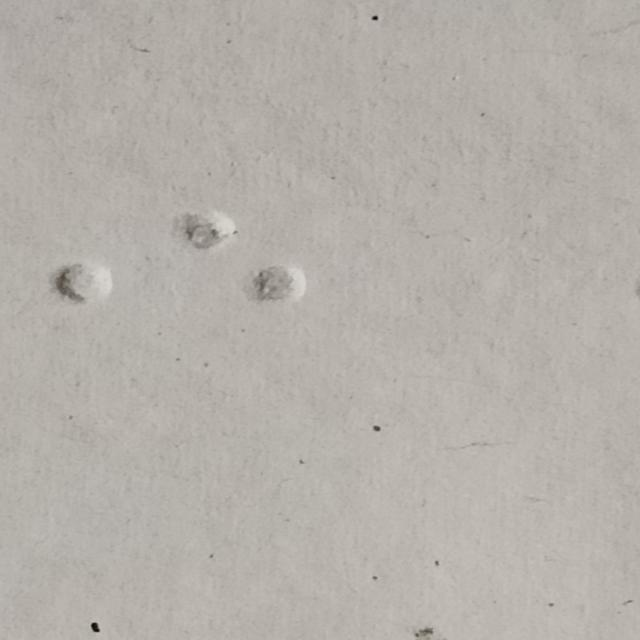dot_5: (0, 208, 114, 359)
two_cell_alphabet_ewan: (184, 210, 308, 361)
